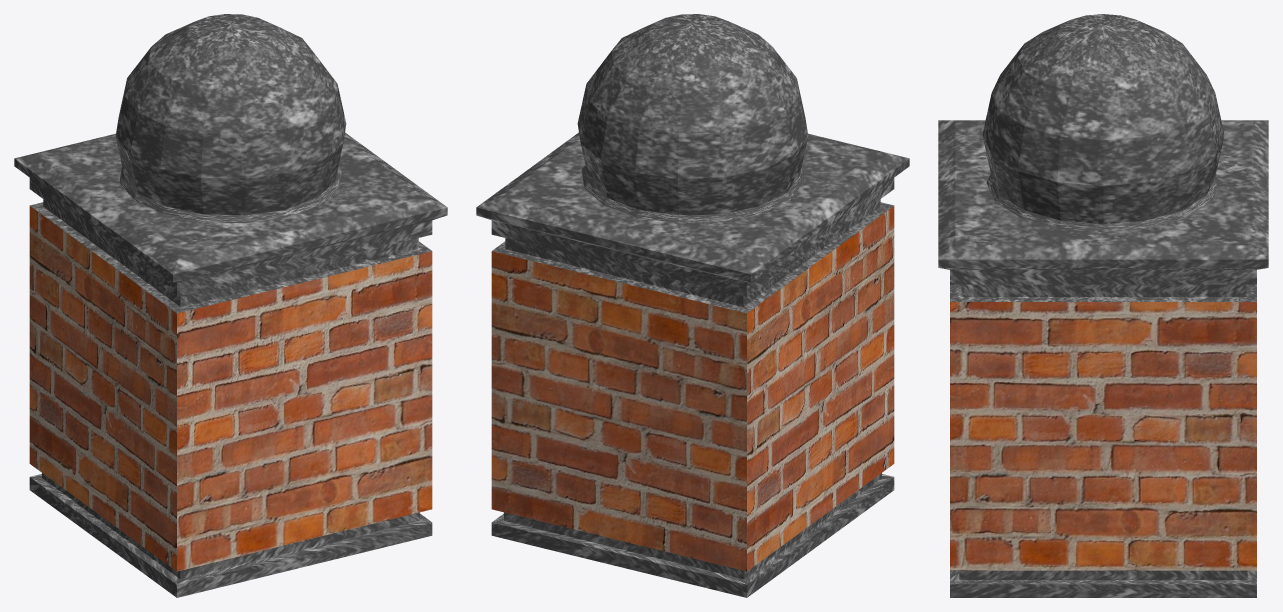
File: Column_Square_Small.fbx
The picture shows the model from 3 angles, left to right: view 1: azimuth 30°, elevation 25°; view 2: azimuth 150°, elevation 25°; view 3: azimuth 270°, elevation 25°; orthographic projection. The views are drawn at different scales.
Visible parts, largest first — view 1: Column_Square_Small_LOD0; view 2: Column_Square_Small_LOD0; view 3: Column_Square_Small_LOD0.
Part boxes in pixels (x1,y1,x2,y2): Column_Square_Small_LOD0: (14, 14, 447, 597); Column_Square_Small_LOD0: (476, 14, 909, 597); Column_Square_Small_LOD0: (938, 14, 1268, 597).
Size of what is drawn, in the model's own units: 359 by 609 by 359.
